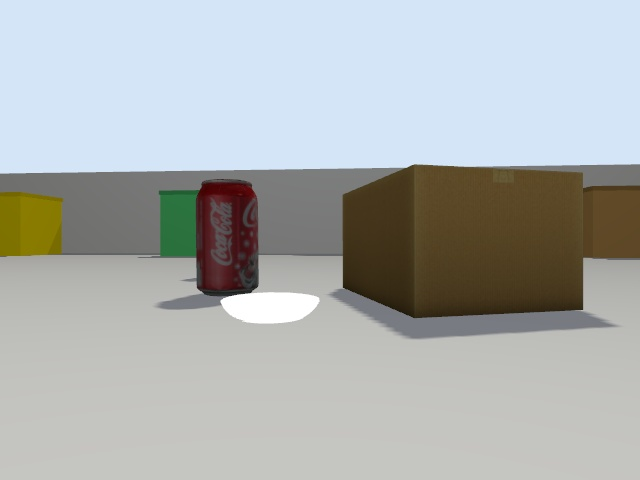bol: (220, 292, 319, 324)
canette: (196, 179, 258, 295)
carton: (342, 165, 582, 317)
